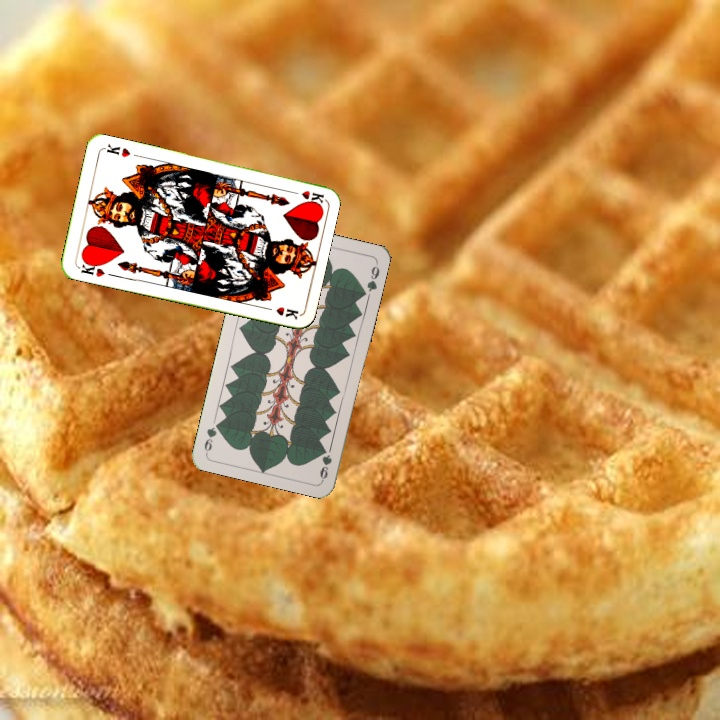G9: (316, 445, 335, 483)
HK: (285, 186, 326, 206), (75, 257, 107, 280)
